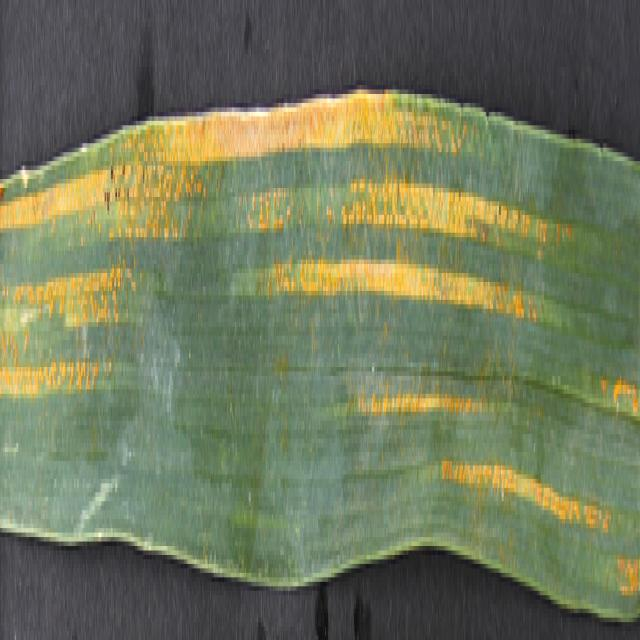leaf rust: (0, 76, 640, 586)
